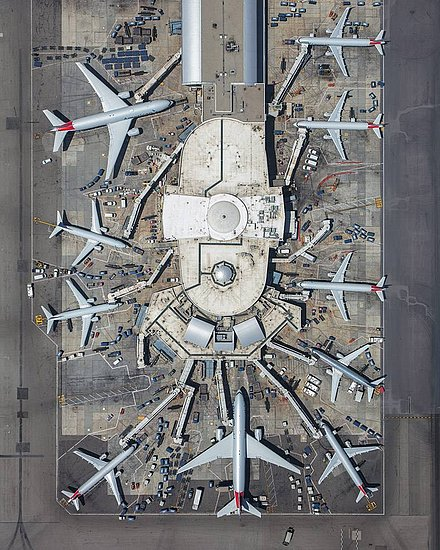aircraft: (41, 60, 176, 185), (177, 388, 303, 519), (295, 5, 387, 79), (294, 90, 385, 161), (315, 415, 384, 505), (297, 253, 387, 321), (39, 277, 121, 348), (59, 441, 138, 513), (50, 198, 131, 266), (309, 342, 387, 405)
